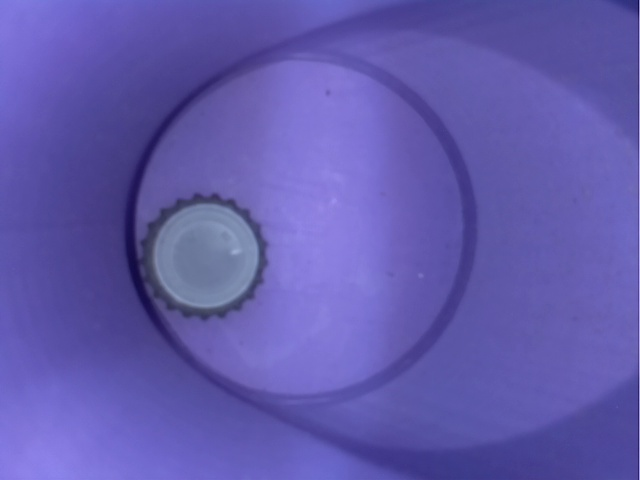capsule: (125, 180, 286, 328)
